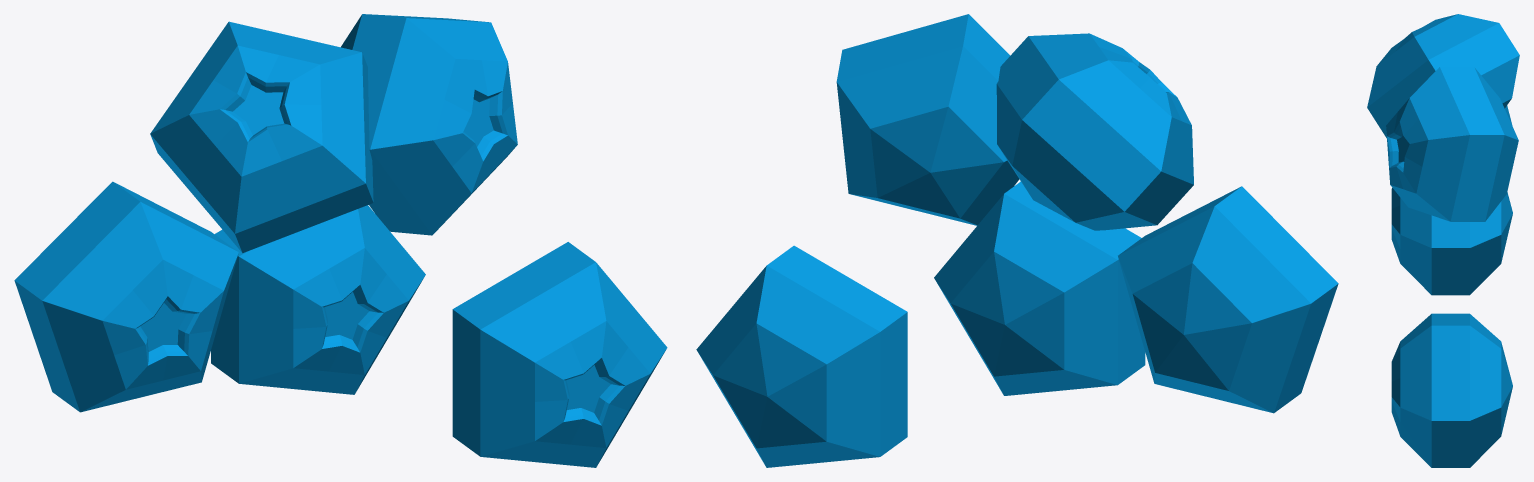
File: e0c7dcd1-d679-49ac-8c5e-2c33d37b6c44.glb
3 renders of one model, left to right at view 1: azimuth 30°, elevation 25°; view 2: azimuth 150°, elevation 25°; view 3: azimuth 270°, elevation 25°, orthographic. The views are drawn at different scales.
Parts seen in each view (by area): view 1: pasted__pSphere32 group; view 2: pasted__pSphere32 group; view 3: pasted__pSphere32 group.
Part boxes in pixels (<box>): pasted__pSphere32 group: <box>14,14,667,467</box>; pasted__pSphere32 group: <box>696,14,1338,467</box>; pasted__pSphere32 group: <box>1367,14,1519,467</box>.
Size of the model in its own units: 63.02 by 47.3 by 19.29.
